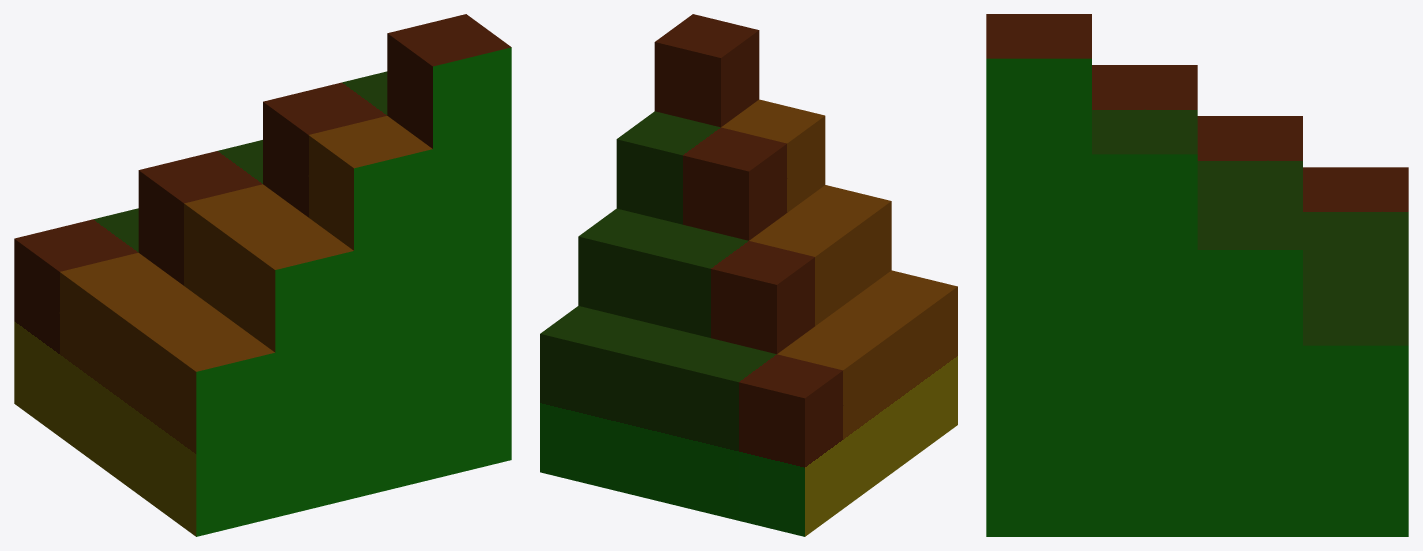
The model's file is block_5.fbx.
The picture shows the model from 3 angles, left to right: view 1: azimuth 30°, elevation 25°; view 2: azimuth 150°, elevation 25°; view 3: azimuth 270°, elevation 25°; orthographic projection. The views are drawn at different scales.
Visible parts, largest first — view 1: Box.026; view 2: Box.026; view 3: Box.026.
Boxes of the visible parts, x1,y1,x2,y2 form: Box.026: [14, 14, 511, 536]; Box.026: [540, 14, 957, 536]; Box.026: [986, 14, 1408, 536].
Size of the model in its own units: 4 by 5 by 4.
